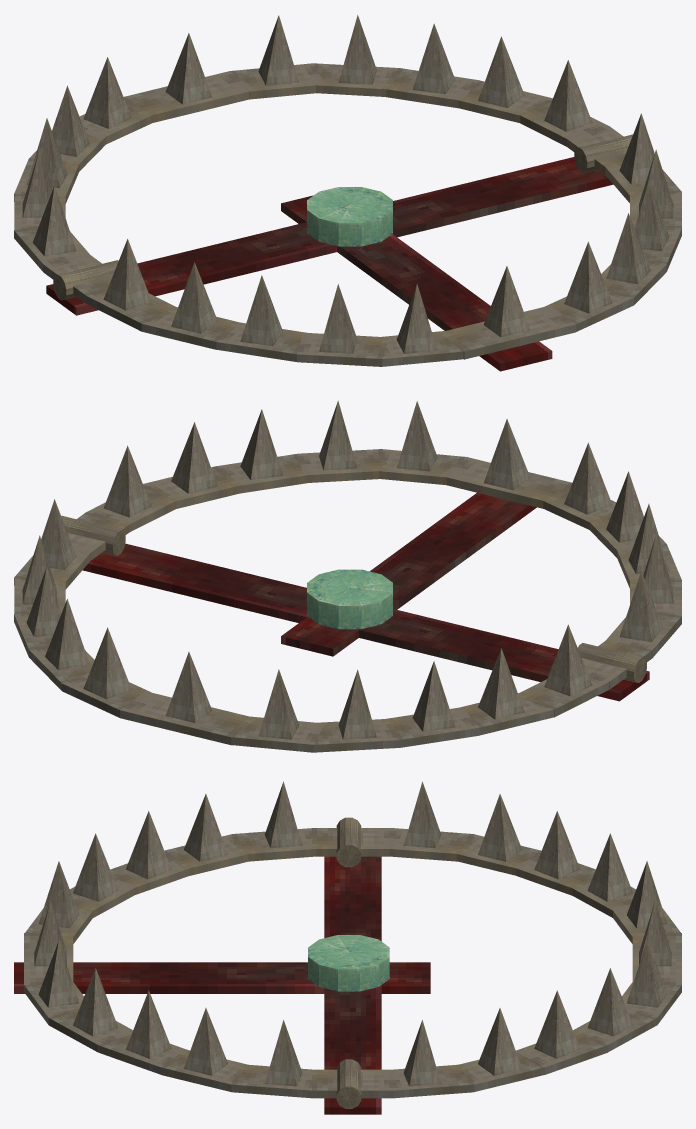
The model's file is Bear Trap For Collision.glb.
3 renders of one model, top to bottom at view 1: azimuth 30°, elevation 25°; view 2: azimuth 150°, elevation 25°; view 3: azimuth 270°, elevation 25°, orthographic. The views are drawn at different scales.
Visible parts, largest first — view 1: bear trap Image_0 (2)_0; view 2: bear trap Image_0 (2)_0; view 3: bear trap Image_0 (2)_0.
Boxes of the visible parts, x1,y1,x2,y2 form: bear trap Image_0 (2)_0: (14,15,681,371); bear trap Image_0 (2)_0: (14,400,681,752); bear trap Image_0 (2)_0: (14,781,681,1114).
Size of the model in its own units: 1.22 by 0.172 by 1.28.
3 materials, 3 textured.
